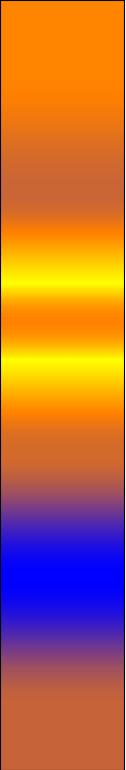Thermal Runaway: (12, 216, 110, 423), (8, 8, 115, 140)
critical: (9, 669, 113, 763), (11, 430, 109, 499), (11, 150, 109, 206)
safe: (9, 508, 104, 656)
